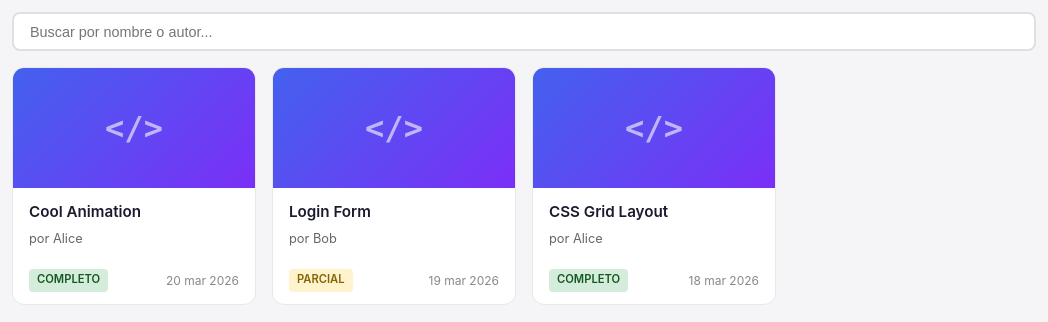
it: ProjectGrid › shows no results message when search has no matches
Type "nonexistent" into the field with placeholder "Buscar por nombre o autor..." at (524, 32), box [12,12,1036,51]
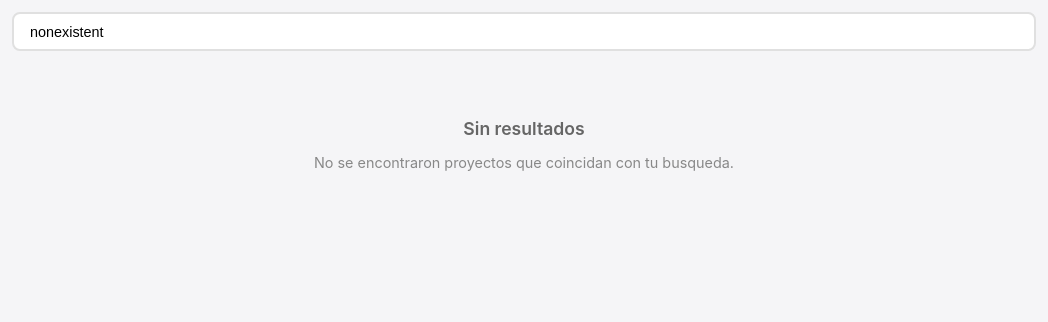
Check: the text "Sin resultados" is shown, box [463,118,585,139]
